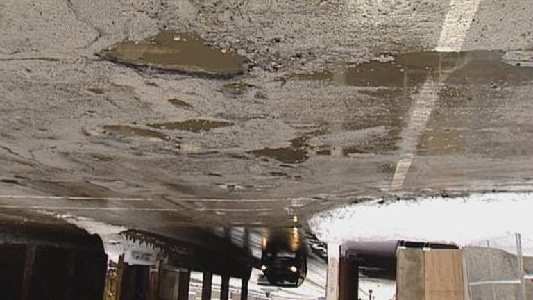pothole: (93, 27, 256, 82), (337, 46, 532, 91), (80, 120, 180, 148), (243, 145, 310, 169), (147, 117, 236, 134)
